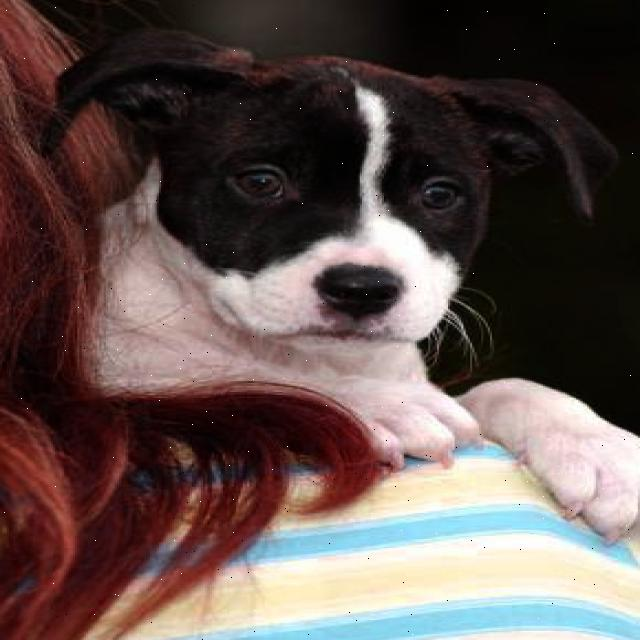Dog: (5, 2, 624, 399)
